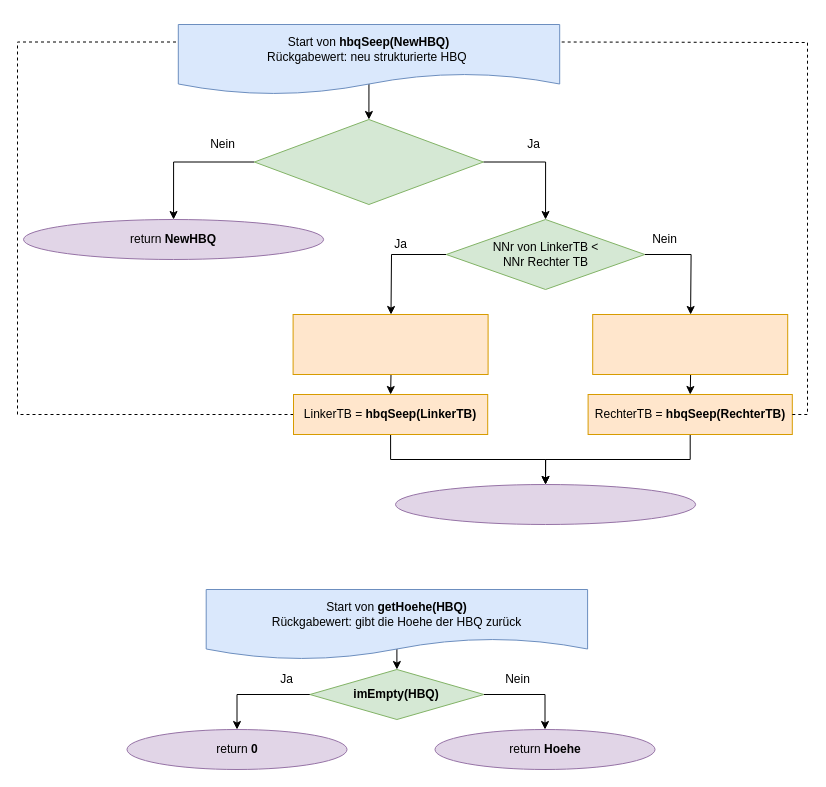
Image size: 826x787. Some labels were removed from this diagram. Each missing label, with the box of its shape:
NNr > max(NNr von LinkerTB, NNr von RechterTB: (253, 118, 483, 204)
return {Msg, Höhe, LinkerTB, RechterTB}: (394, 484, 696, 524)
TempMsg = Msg Msg = Msg von LinkerTB Msg von LinkerTB = TempMsg: (292, 314, 488, 374)
TempMsg = Msg Msg = Msg von RechterTB Msg von RechterTB = TempMsg: (592, 314, 788, 374)
